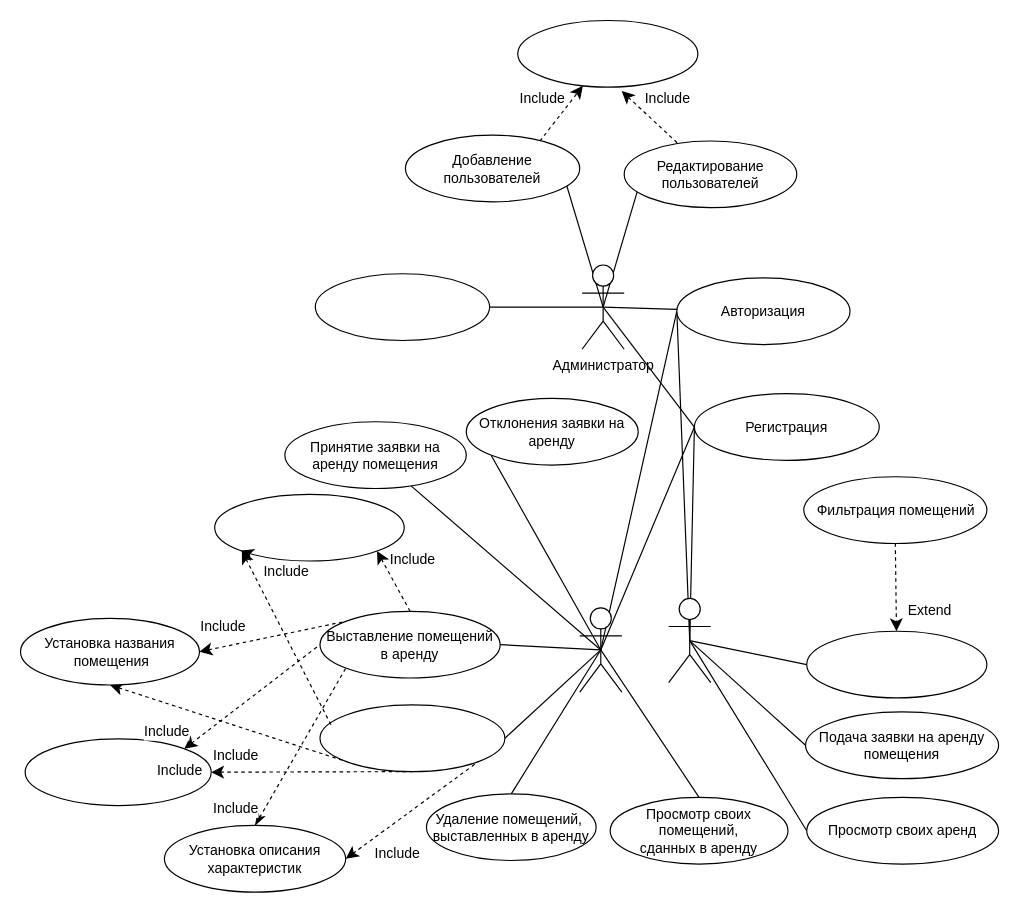
Image size: 1019x913. Some labels were removed from this diagram. The box of each missing label's shape, as (x1, y1, x2, y2) in pixels:
Арендатор: (667, 597, 711, 683)
Владелец: (579, 607, 622, 692)
Выбор типа помещени: (24, 738, 211, 806)
Заполнение формы данных пользователя: (517, 19, 698, 87)
Просмотр выставленных в аренду помещений: (806, 630, 987, 698)
Редактирование помещений, выставленных в аренду: (319, 704, 505, 772)
Удаление пользователей: (314, 273, 490, 340)
Установка фотографии помещения: (214, 493, 404, 561)
